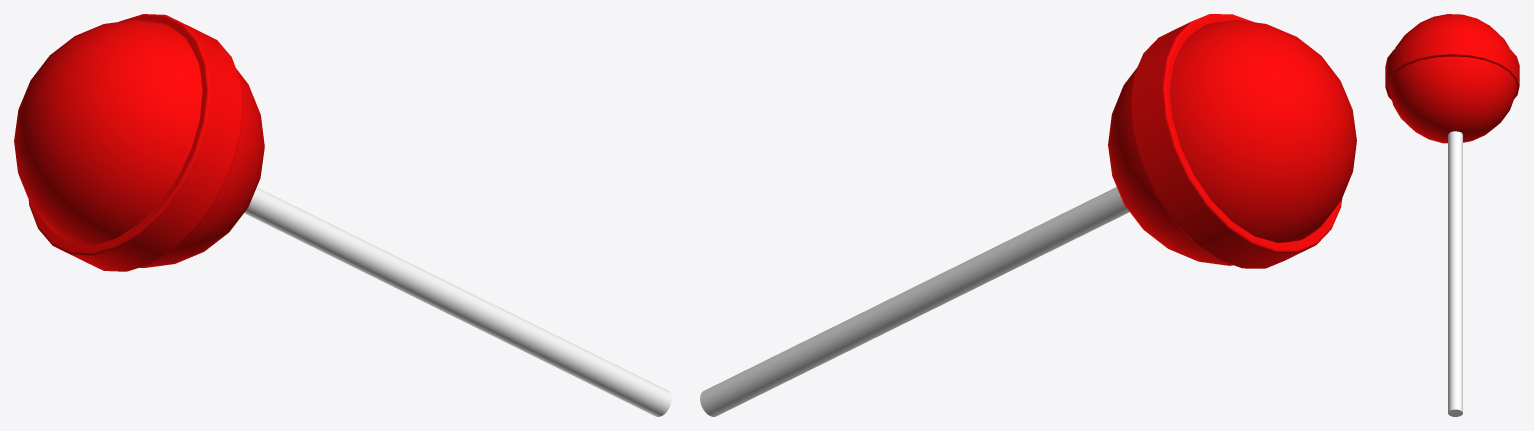
Rendered from lollipop.fbx.
The picture shows the model from 3 angles, left to right: view 1: azimuth 30°, elevation 25°; view 2: azimuth 150°, elevation 25°; view 3: azimuth 270°, elevation 25°; orthographic projection. The views are drawn at different scales.
Visible parts, largest first — view 1: Group2, Group3; view 2: Group2, Group3; view 3: Group2, Group3.
Boxes of the visible parts, box(x1,y1,x2,y2) form: Group2: box(14, 14, 264, 271); Group3: box(244, 187, 671, 416); Group2: box(1108, 14, 1356, 268); Group3: box(700, 187, 1129, 416); Group2: box(1385, 14, 1519, 143); Group3: box(1448, 131, 1462, 416).
Bounding box in the file's own units: 2730 × 2089 × 958.
